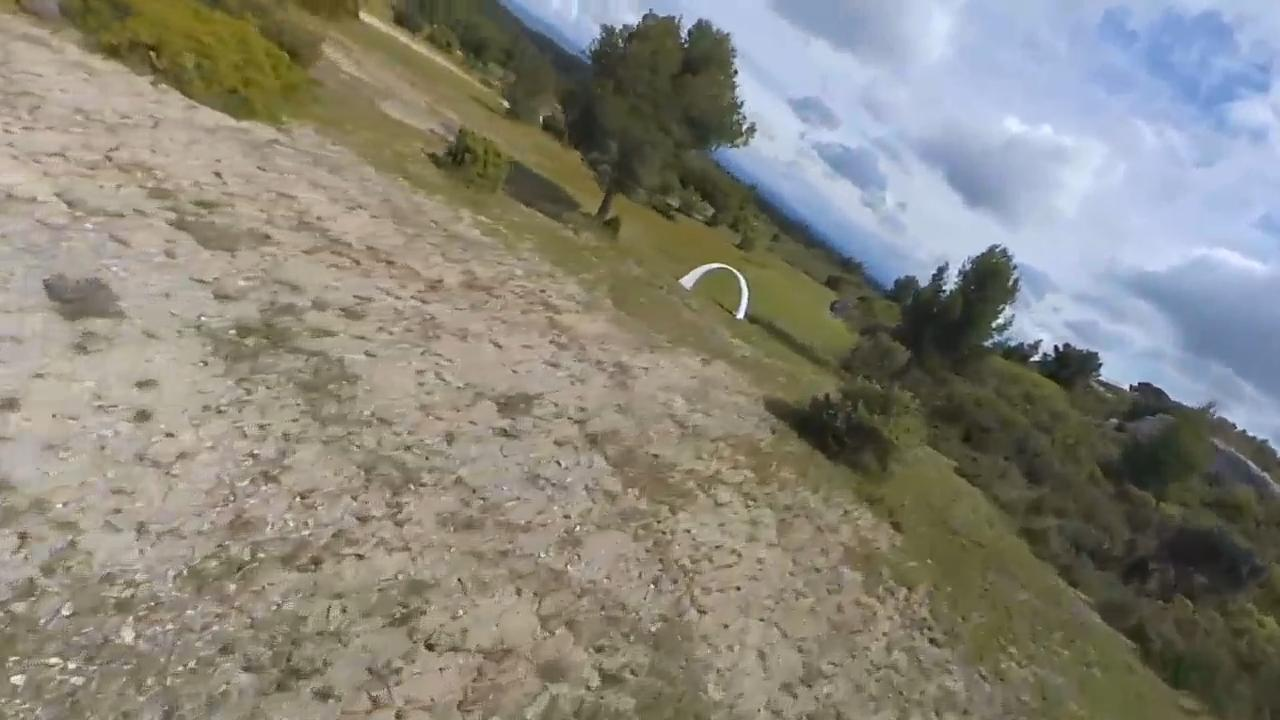gate: (678, 260, 750, 323)
